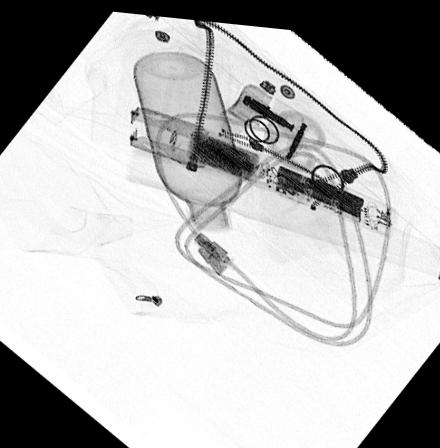Baton: (126, 99, 400, 229)
